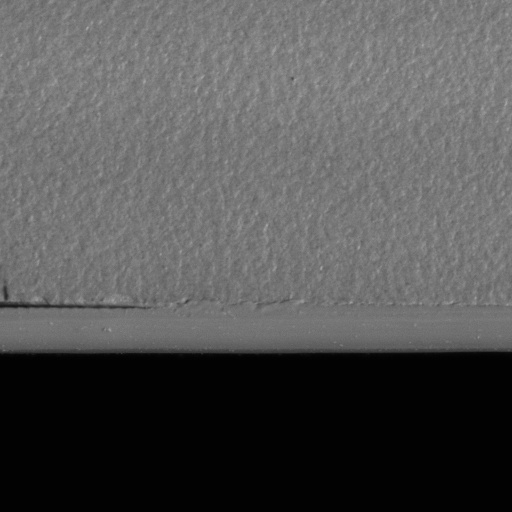jiaofeng: (3, 299, 154, 329)
